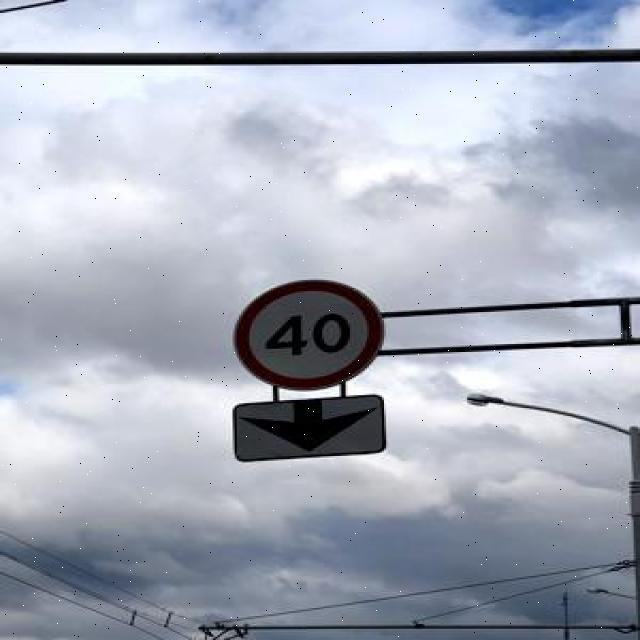speed limit 40: (233, 280, 383, 391)
